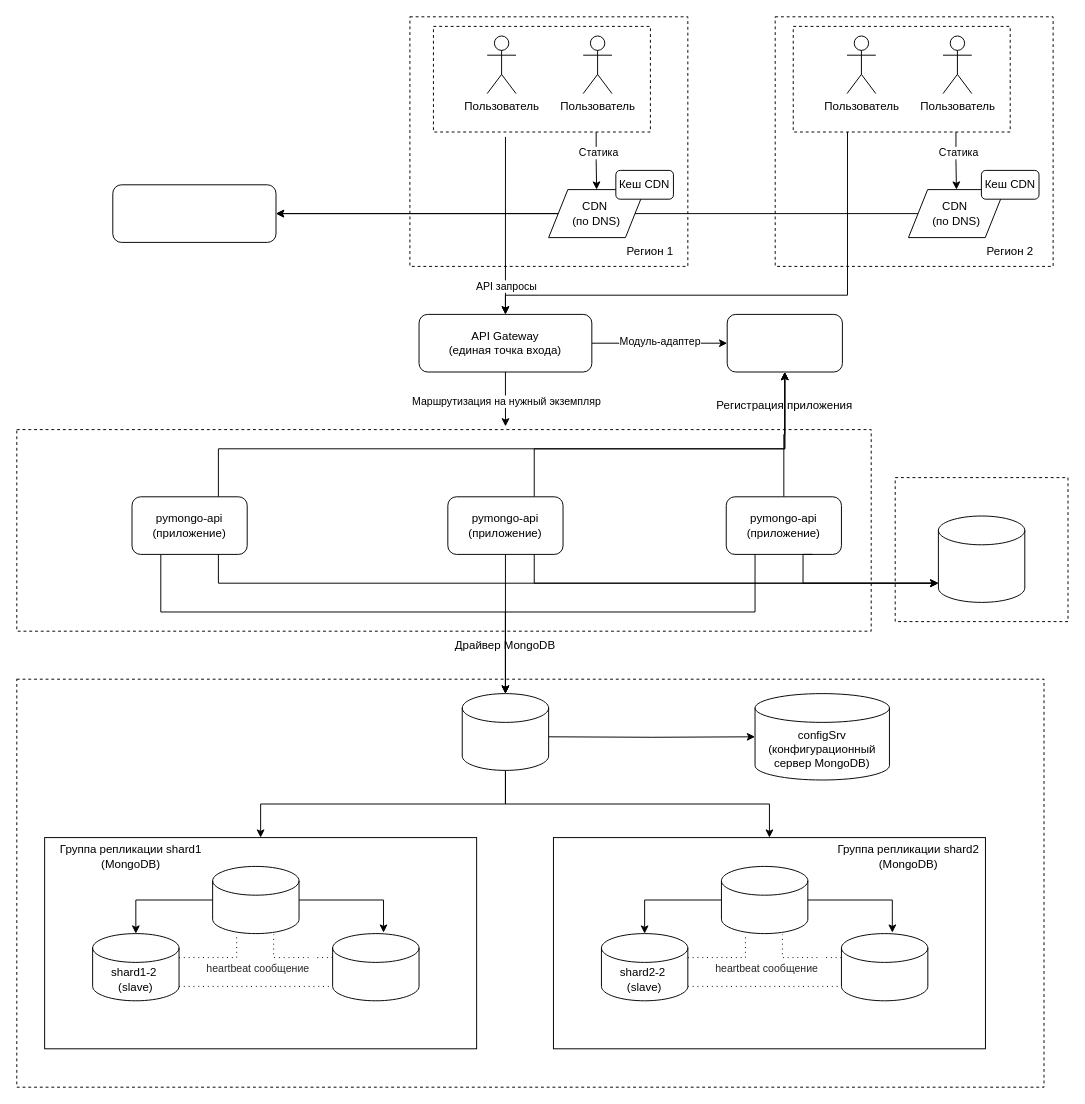
This 1085x1104 diagram has some shape labels left out. The shapes that lost their labels are listed below. From the top down, each one's box as (x1, y1, x2, y2) in pixels, then its label:
(112, 184, 276, 242): Основной сервер CDN (например, бакет yandex object storage)
(726, 313, 842, 372): consul (хранит информацио об it-сервисах)
(937, 515, 1025, 602): Кеш (Redis)
(461, 693, 549, 770): router (роутер MongoDB)
(212, 865, 299, 934): shard1-1 (master)
(720, 865, 808, 934): shard2-1 (master)
(332, 933, 419, 1001): shard1-3 (slave)
(840, 933, 928, 1001): shard2-3 (slave)
